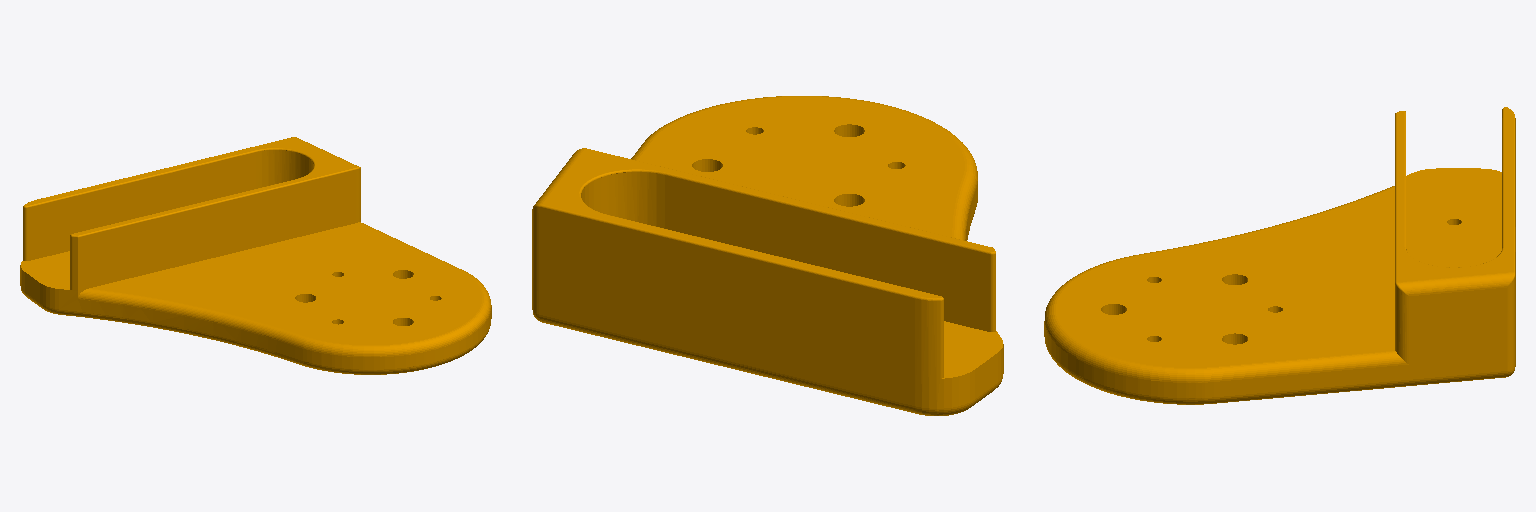
robot.urdf — endeffector:
<?xml version="1.0"?>
<robot name="endeffector" xmlns:xacro="http://wiki.ros.org/xacro" >
    
    <link name="endeffector_plate">
      <visual>
        <geometry>
          <mesh filename="package://igus_rebel_description_real/meshes/endeff/basePlate.stl" scale="0.001 0.001 0.001"/>
        </geometry>
      </visual>
      <collision>
        <geometry>
          <mesh filename="package://igus_rebel_description_real/meshes/endeff/basePlate.stl" scale="0.001 0.001 0.001"/>
        </geometry>
      </collision>
      <inertial>
        <mass value="0.1"/>
        <inertia ixx="0.001" ixy="0" ixz="0" iyy="0.001" iyz="0" izz="0.001"/>
        <origin xyz="0 0 0" rpy="0 0 0"/>
      </inertial>
    </link>


</robot>

--- Facts derived from the render (not from the file) ---
The picture shows the robot from 3 angles, left to right: view 1: azimuth 30°, elevation 25°; view 2: azimuth 150°, elevation 25°; view 3: azimuth 270°, elevation 25°; orthographic projection.
Model endeffector with 1 links and 0 joints (none), rooted at endeffector_plate, posed all joints at 0.
Links seen in each view (by area): view 1: endeffector_plate; view 2: endeffector_plate; view 3: endeffector_plate.
Boxes of the visible links, left/top/right/bottom form: endeffector_plate: left=20, top=137, right=491, bottom=374; endeffector_plate: left=532, top=96, right=1003, bottom=415; endeffector_plate: left=1044, top=107, right=1515, bottom=404.
Bounding box of the posed robot: 0.1287 × 0.1253 × 0.0305 m (x, y, z).
Meshes: 1 distinct files referenced, 1 mesh visuals loaded (1 binary STL).
